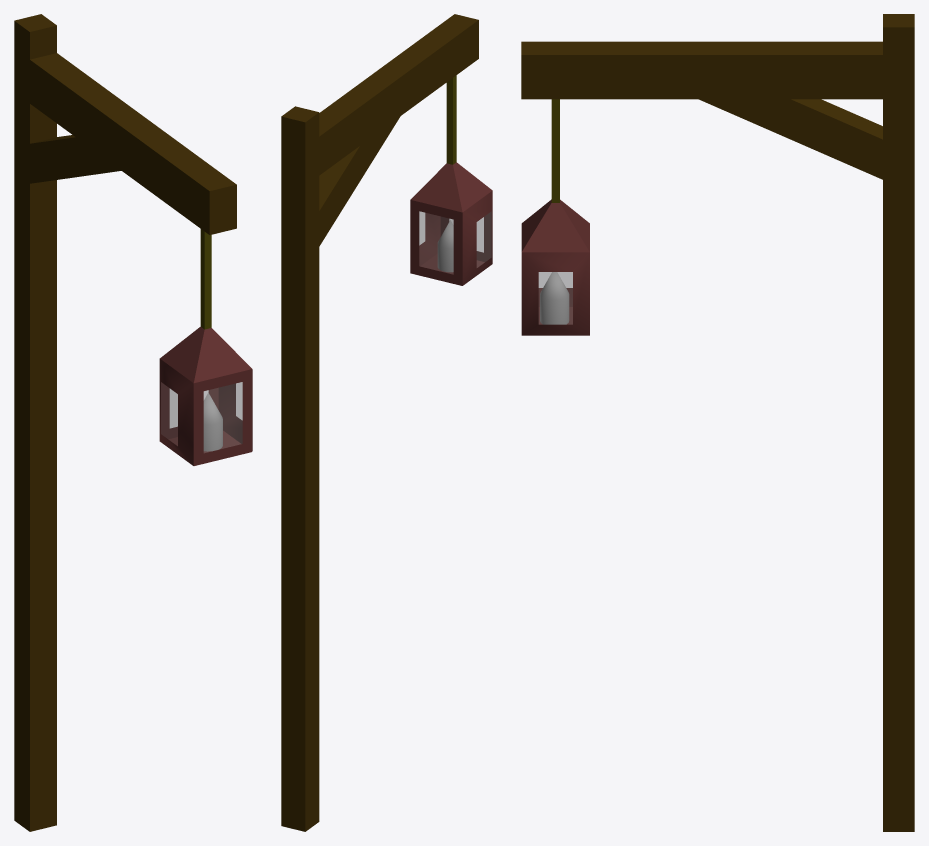
File: pilier lumiere chemin (1).fbx
3 views of the same model, side by side, from view 1: azimuth 30°, elevation 25°; view 2: azimuth 150°, elevation 25°; view 3: azimuth 270°, elevation 25° (orthographic). The views are drawn at different scales.
Parts seen in each view (by area): view 1: bougie1; view 2: bougie1; view 3: bougie1.
Part boxes in pixels (bbox=[...]): bougie1: bbox=[14, 14, 252, 831]; bougie1: bbox=[281, 14, 492, 831]; bougie1: bbox=[521, 14, 914, 831].
Size of the model in its own units: 0.7516 by 7.67 by 3.4.
